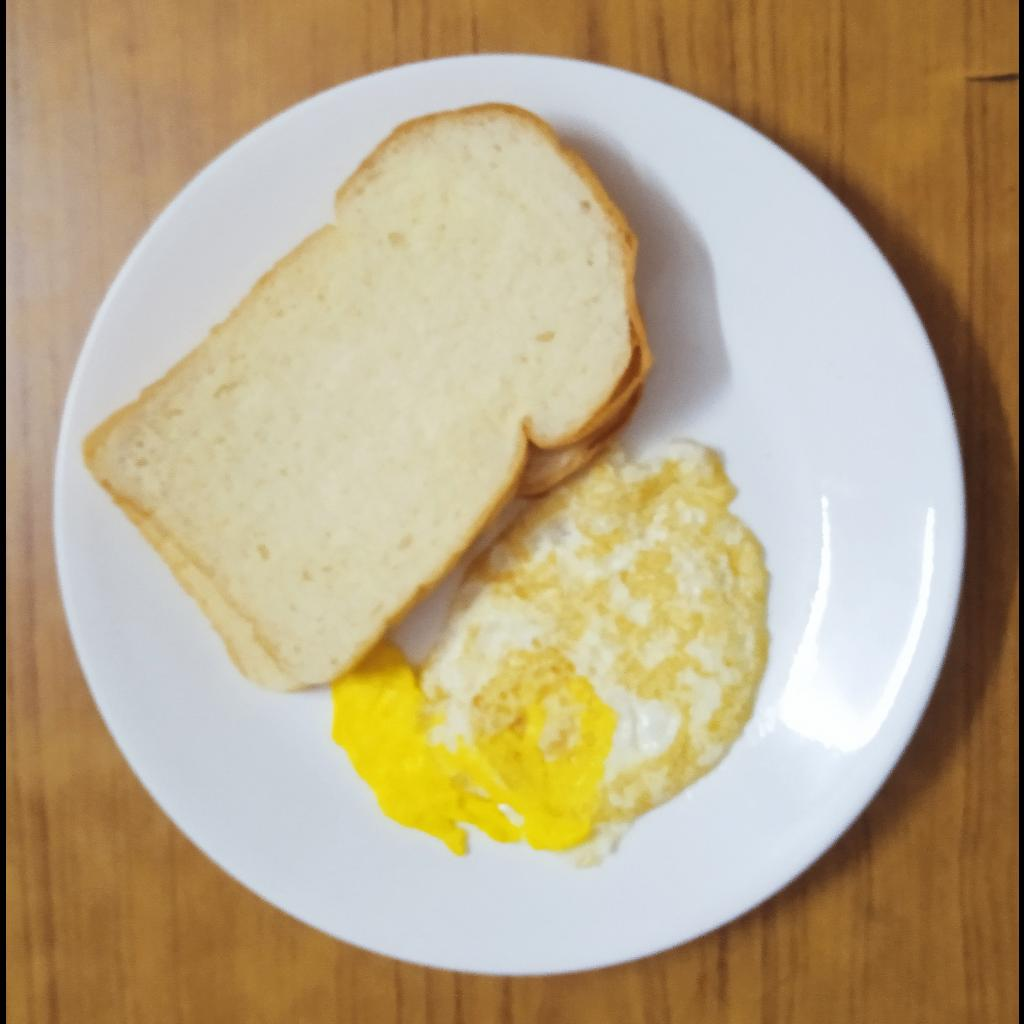bread: (81, 97, 653, 693)
egg-poached: (331, 432, 764, 859)
